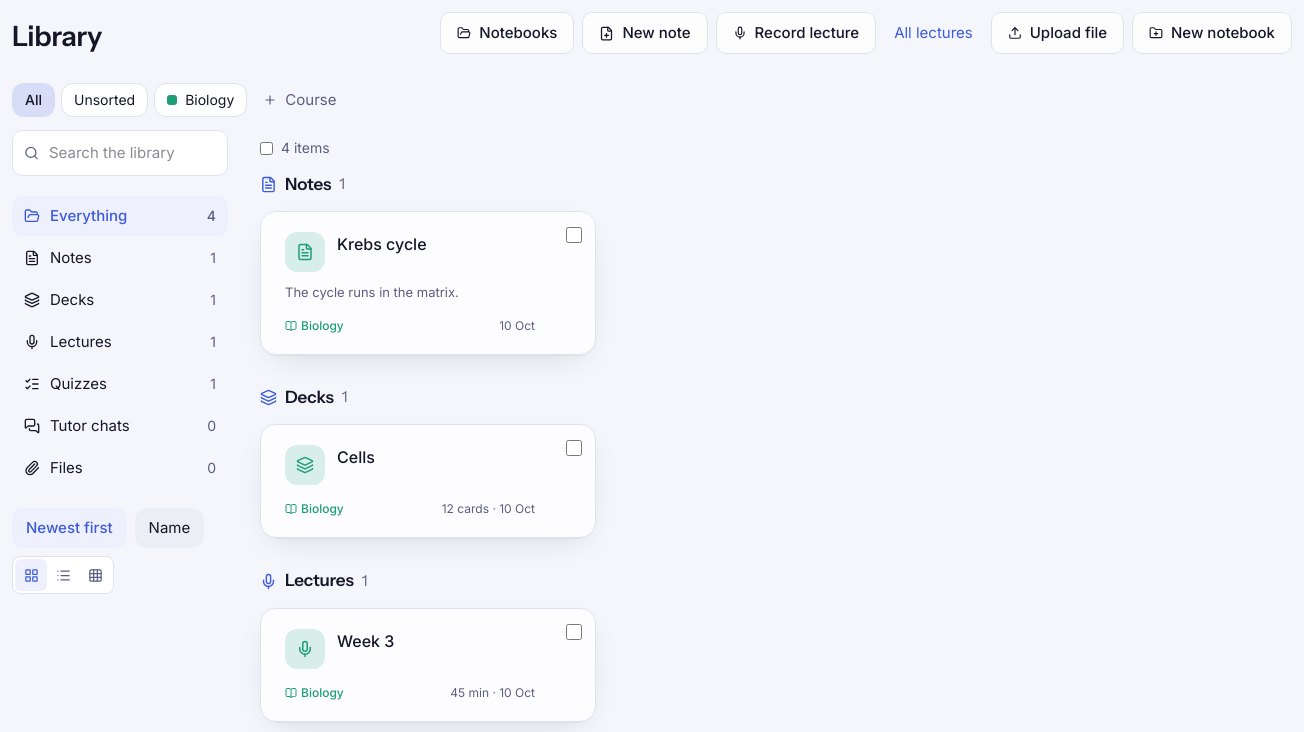
Test: Library: finding things › narrows to a kind, and Everything brings the rest back
This screenshot has width=1304, height=732.
Click the button "Decks 1". click: (120,300)
box: [12, 280, 228, 320]
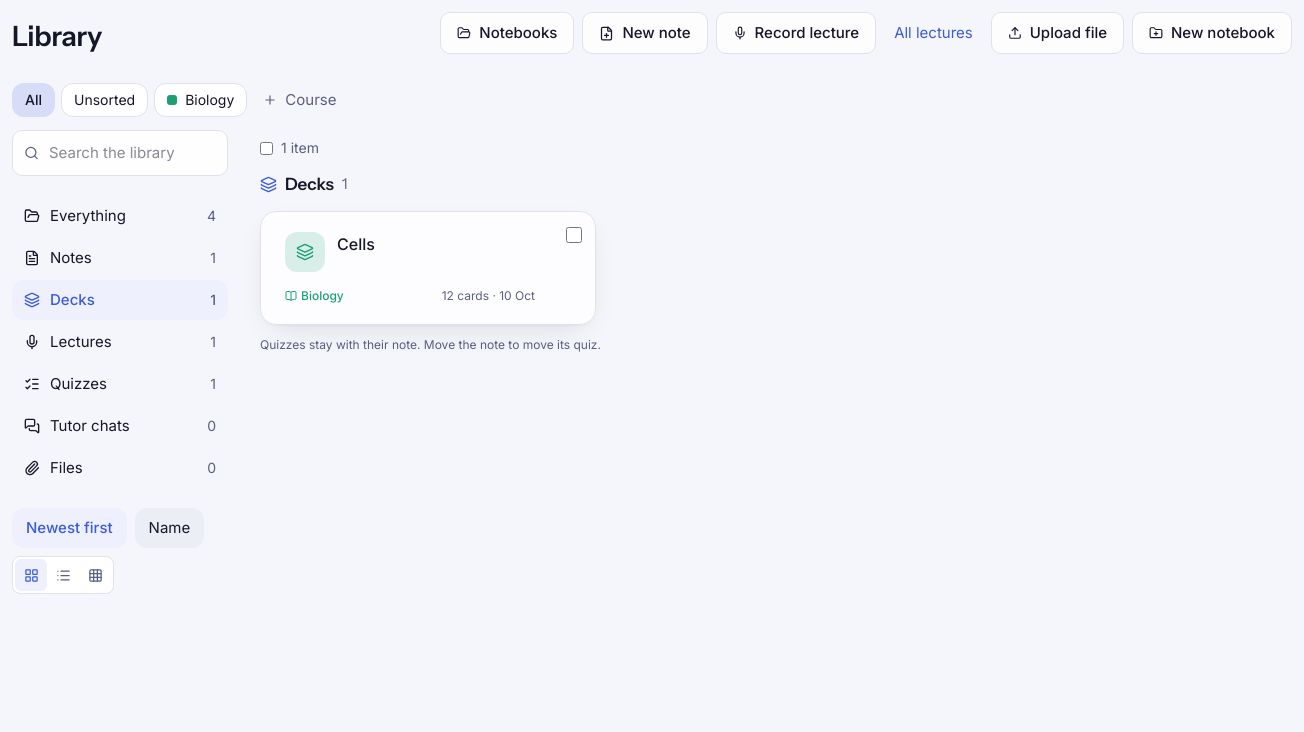
Expected: the link "Cells Biology 12 cards · 10 Oct" is shown, [260, 211, 596, 325]
Expected: the link "Krebs cycle" is gone
Click the button "Everything 4". click: (120,216)
box: [12, 196, 228, 236]
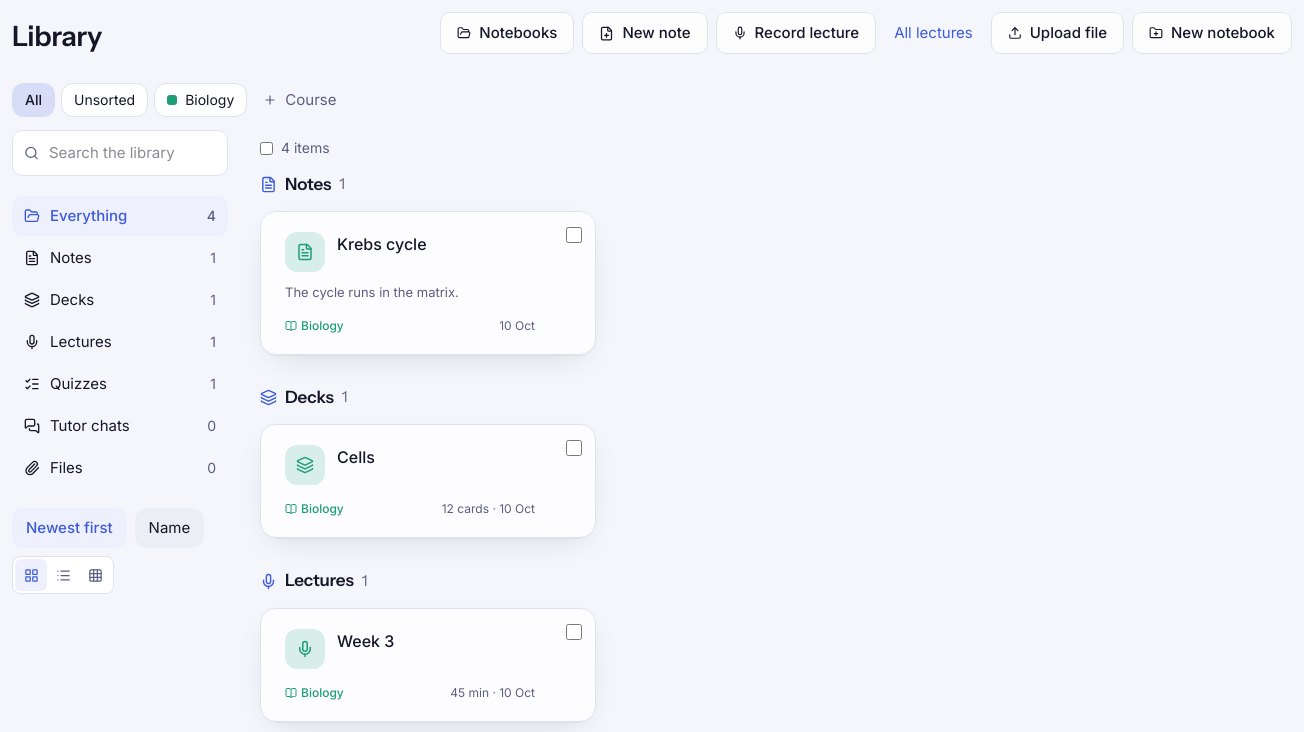
Expected: the link "Krebs cycle The cycle runs in the matrix. Biology 10 Oct" is shown, [260, 211, 596, 355]
